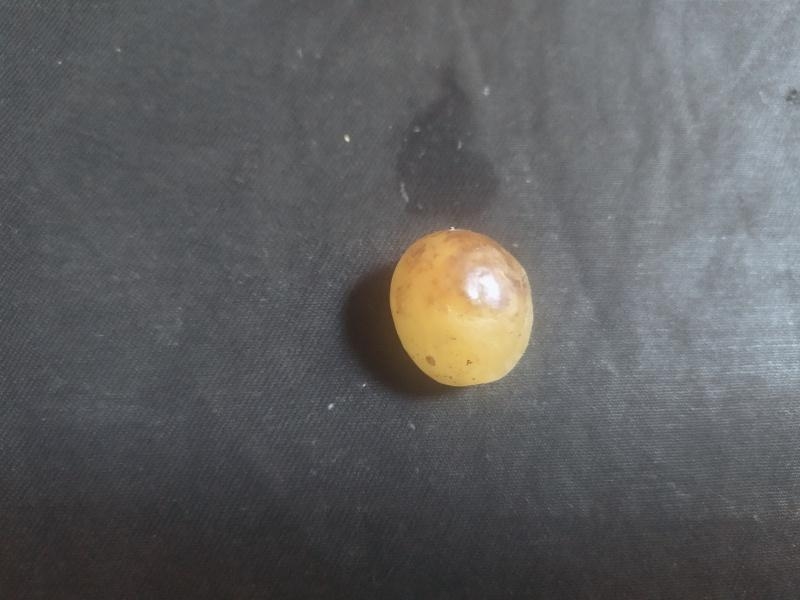Grape Rotten: (391, 230, 534, 388)
